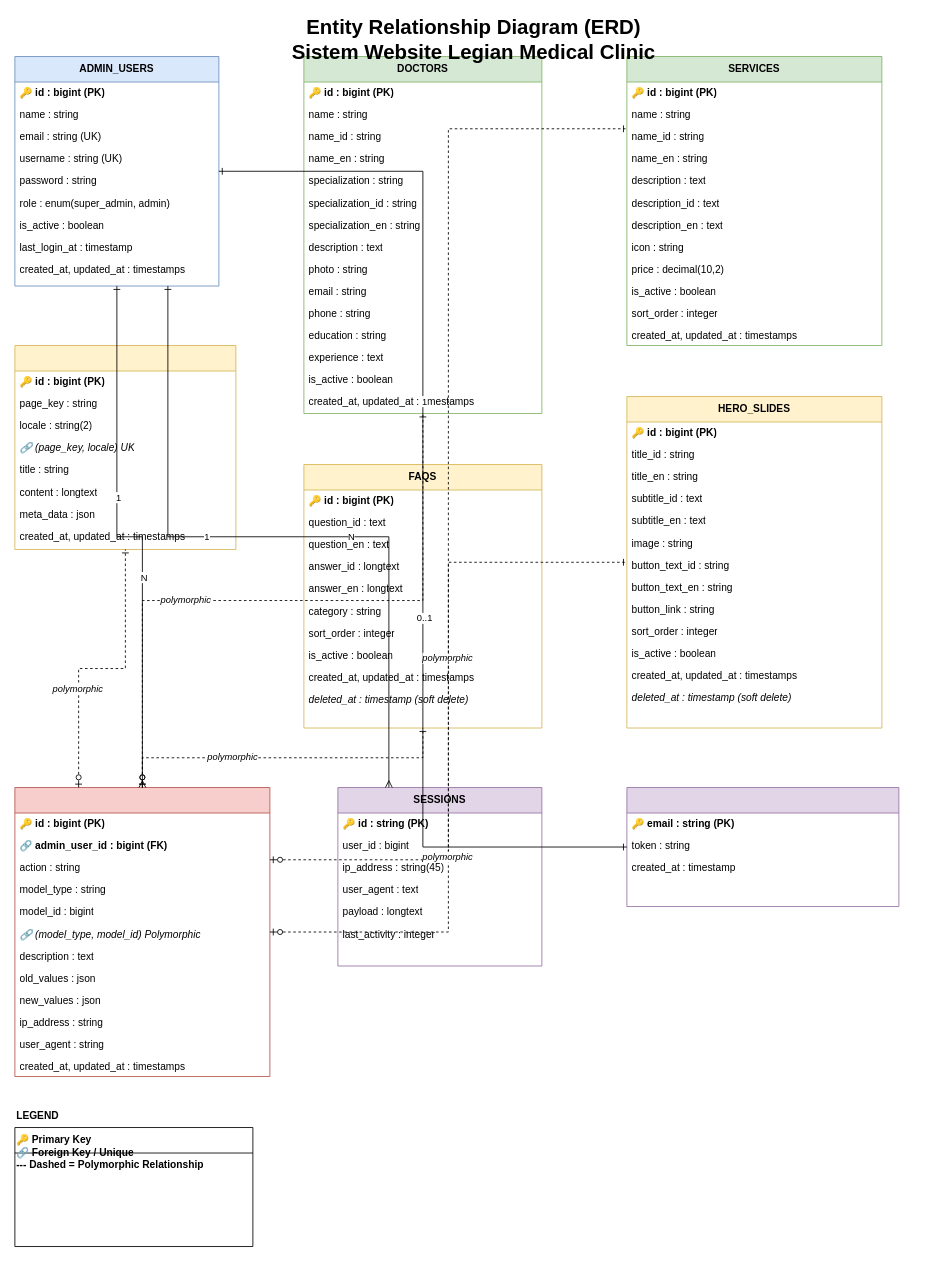
The diagram is 948 pixels wide and 1261 high, and some of its shapes have lost their labels. The shapes that lost their labels are listed below. From the top down, each one's box as (x1, y1, x2, y2) in pixels, then its label:
(14, 345, 236, 550): CONTENT_PAGES
(626, 787, 899, 907): ADMIN_PASSWORD_RESET_TOKENS
(14, 787, 270, 1077): ACTIVITY_LOGS
